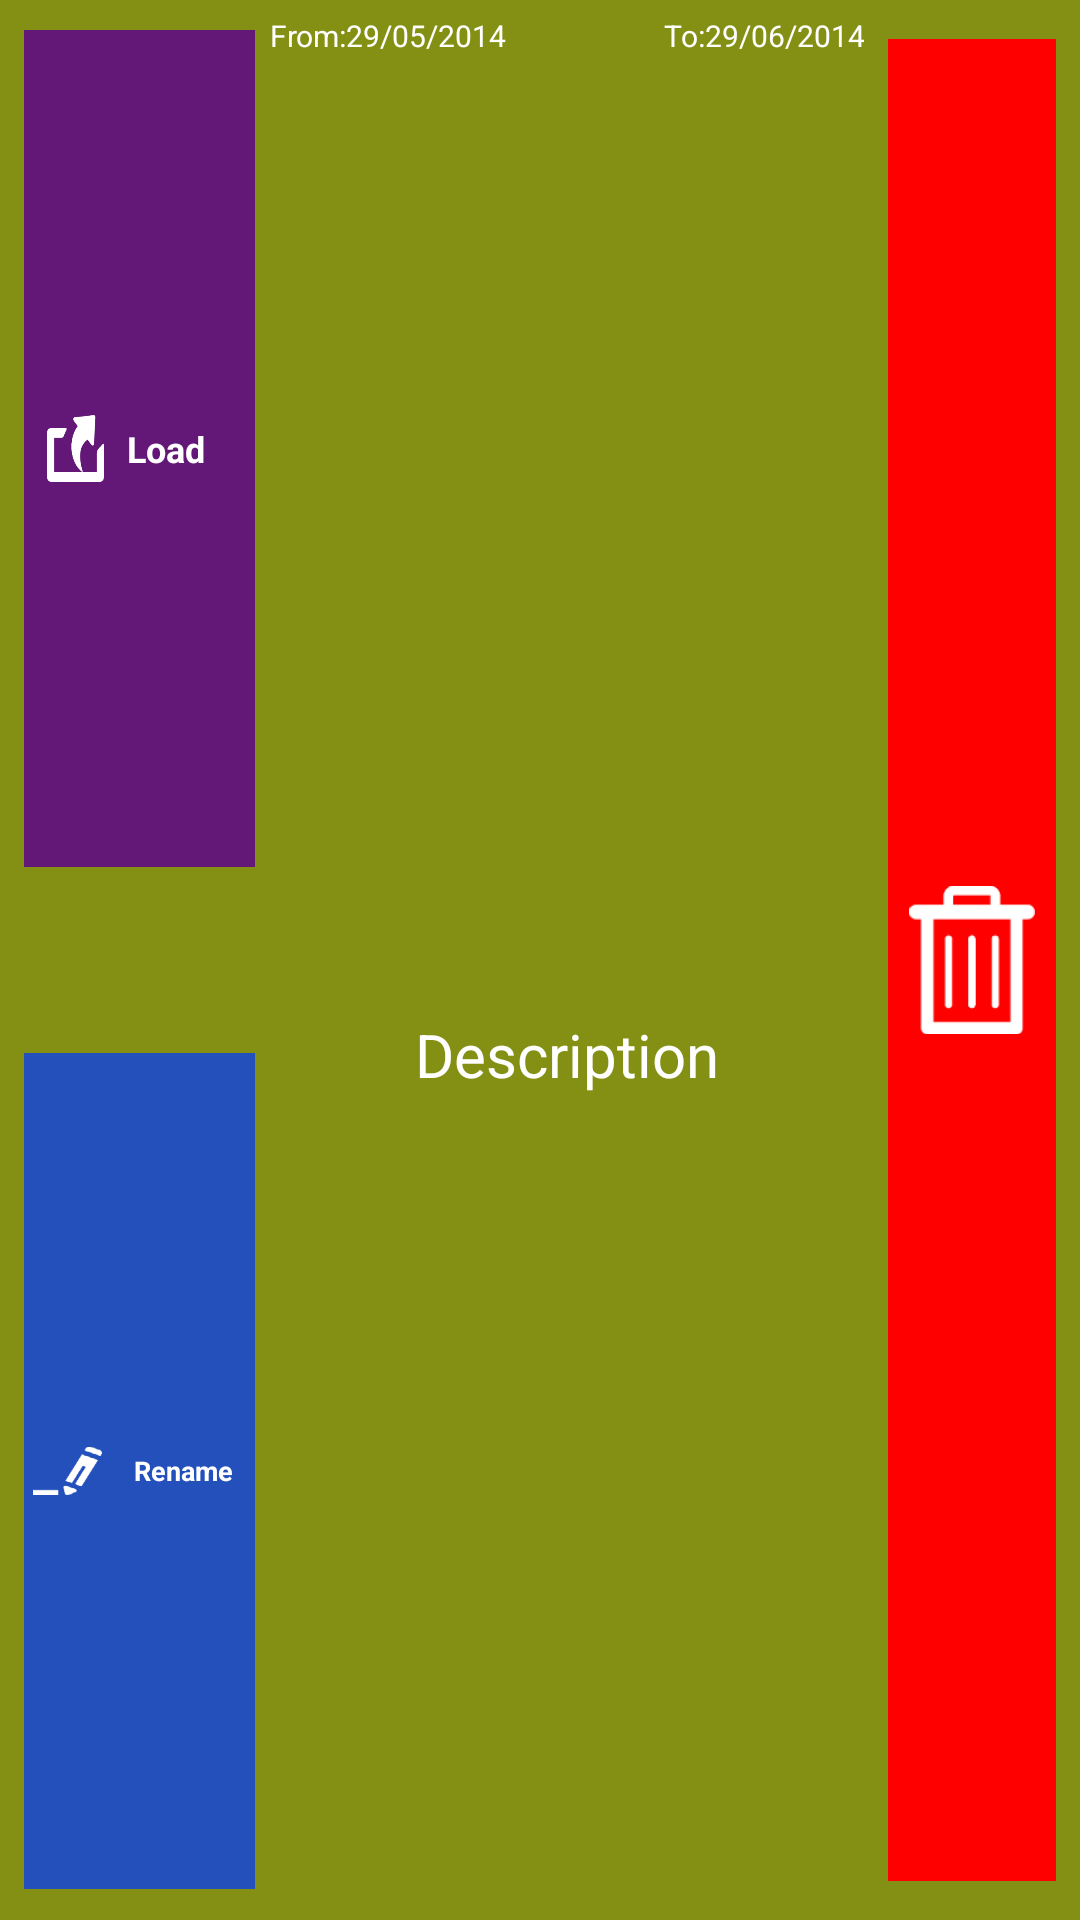

Icon bounding boxes for this 1080 × 1920 phone screenshot, format box(x1, y1, x2, y2):
edit: box(33, 1447, 102, 1495)
